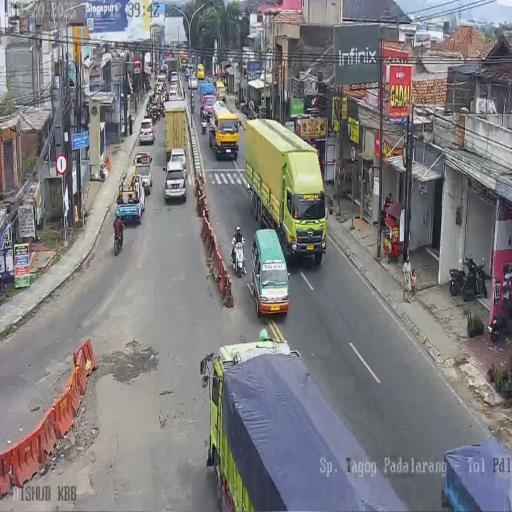car: (133, 150, 153, 194), (166, 147, 188, 185), (140, 117, 155, 146), (215, 79, 226, 102), (156, 74, 167, 93), (188, 74, 198, 90), (170, 71, 179, 87), (169, 86, 178, 100), (197, 63, 204, 79)
motorcycle: (466, 257, 492, 300), (489, 301, 512, 343), (449, 263, 467, 296), (232, 239, 246, 278), (200, 108, 210, 134), (114, 230, 123, 255), (146, 98, 153, 116), (163, 88, 168, 102)
truck: (244, 117, 325, 266), (209, 100, 240, 161), (180, 59, 188, 73)
